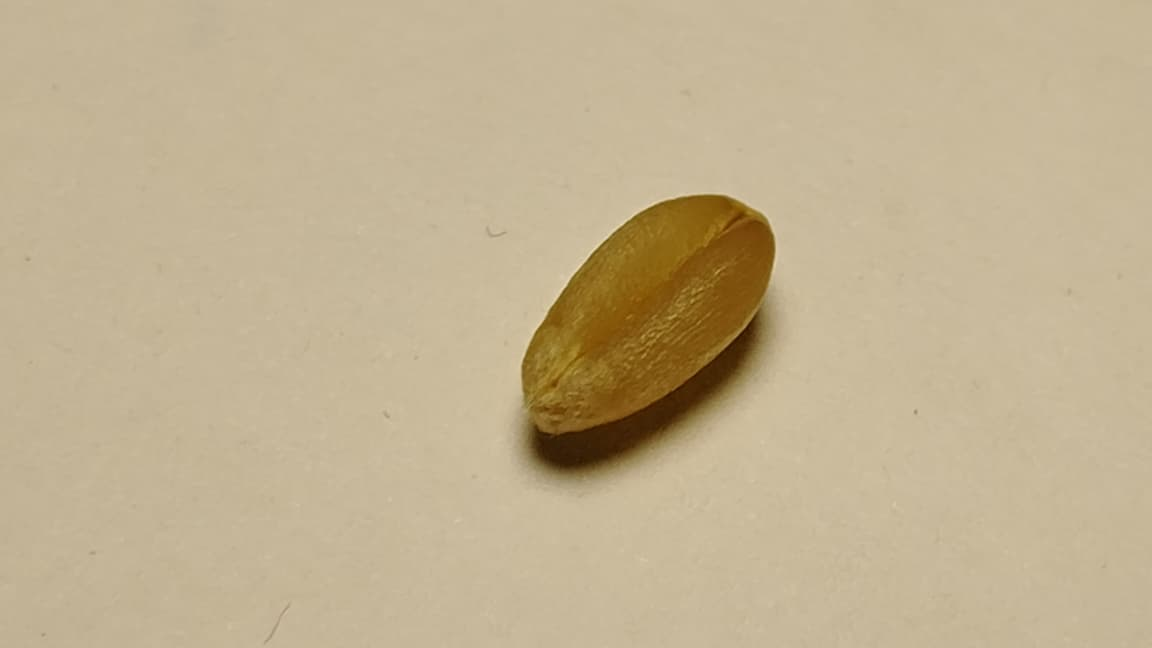healthy: (522, 193, 774, 433)
